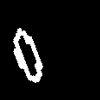chain: (13, 28, 42, 82)
